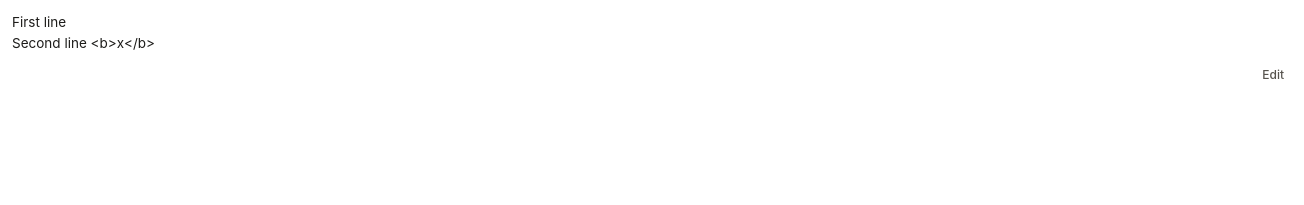
Test: TextAreaEditor: edit mode › Esc on an unchanged edit closes it; on a changed one it warns, then discards
Later steps or results of the test are not shown.
Click the button with aria-label "Edit Description" at (1273, 75), box [1254,62,1292,88]
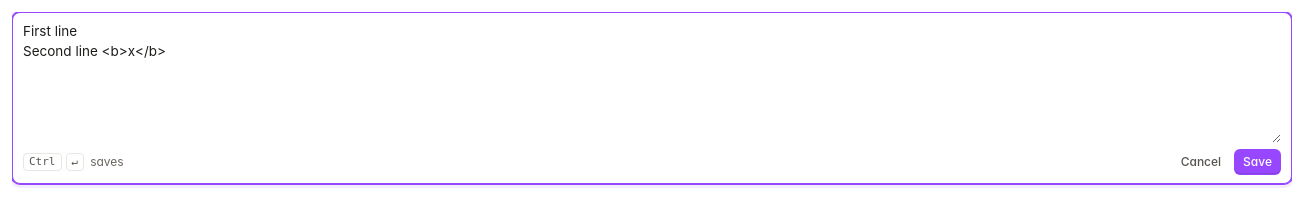
Press Escape in the text box named "Description", box [23,21,1281,142]
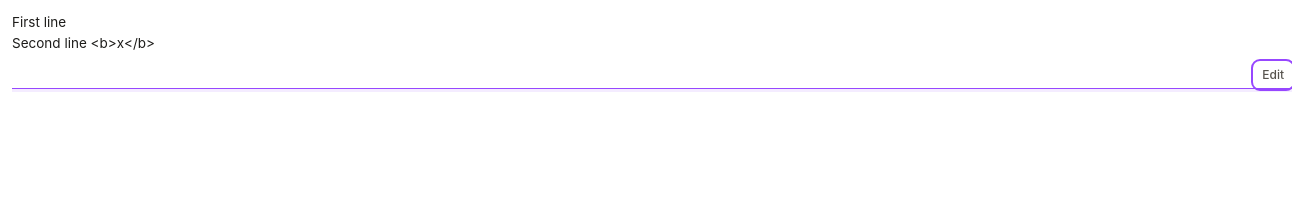
Click the button with aria-label "Edit Description" at (1273, 75), box [1254,62,1292,88]
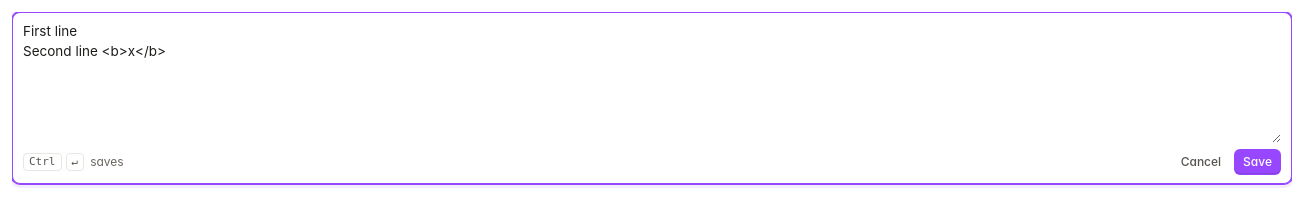
Replace the text in the text box named "Description" with "Draft" at (652, 82), box [23,21,1281,142]
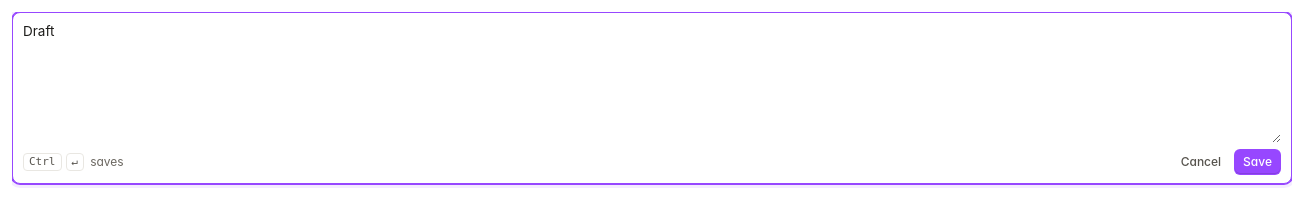
Press Escape in the text box named "Description", box [23,21,1281,142]
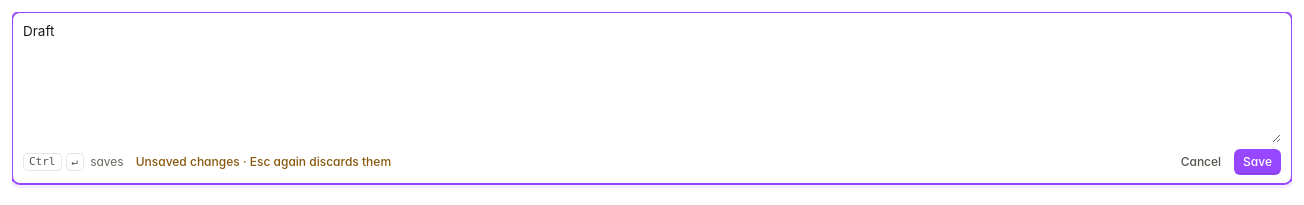
Expected: the text "Unsaved changes · Esc again discards them" is shown, [136,153,391,170]
